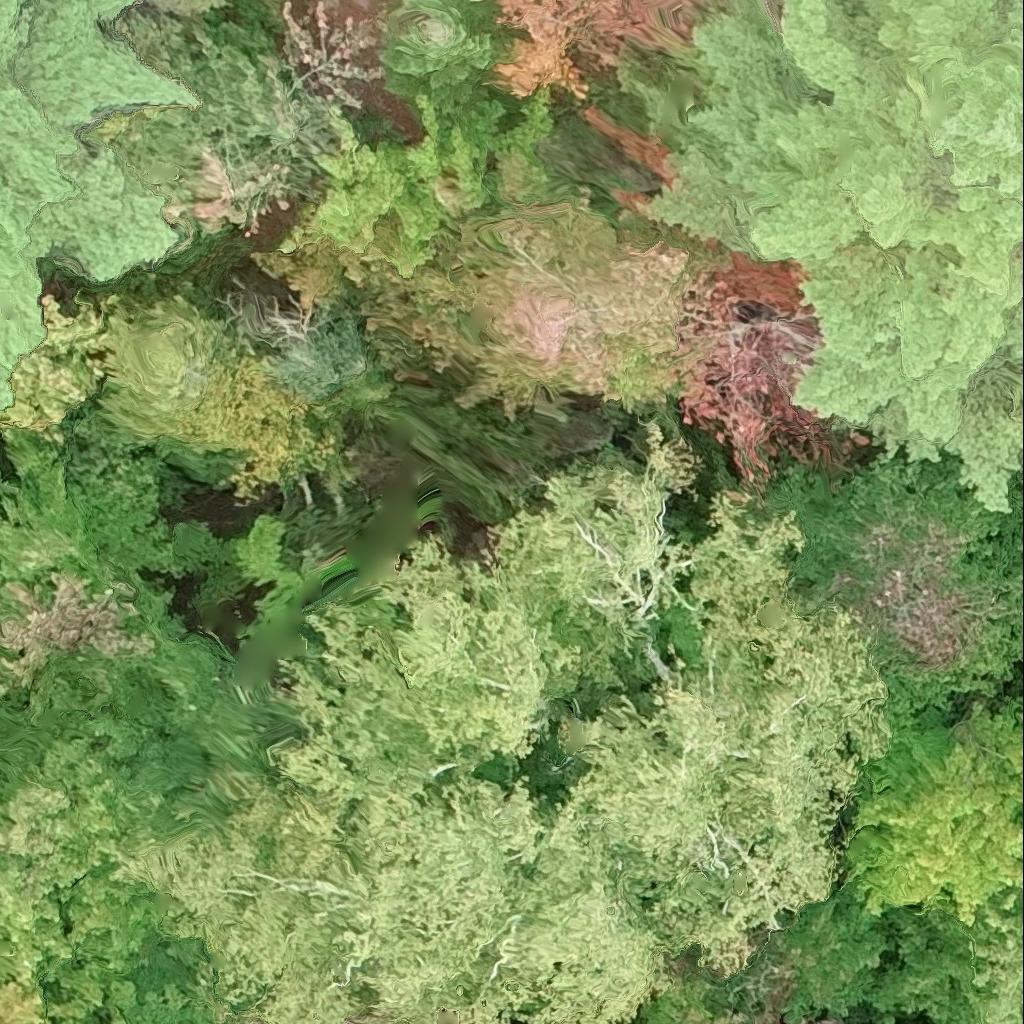crown: (110, 442, 897, 1023), (652, 0, 1023, 514), (830, 697, 1023, 938), (633, 928, 775, 1023), (971, 861, 1023, 1023)
